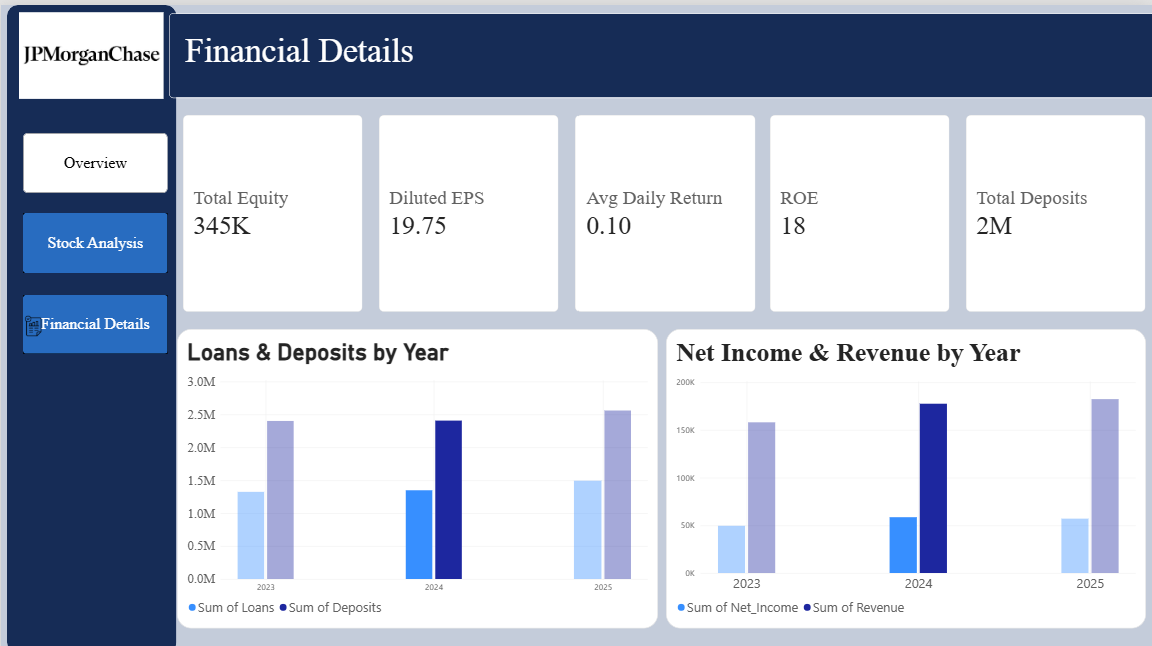

This screenshot's page, from the dashboard's own definition file:
{"tool":"powerbi","page":{"name":"Page 2","canvas":[1920,1080],"ordinal":1},"visuals":[{"type":"clusteredColumnChart","title":"Net Income & Revenue by Year","fields":{"Category":["jpm_financial_data.Year"],"Y":["Sum(jpm_financial_data.Net_Income)","Sum(jpm_financial_data.Revenue)"]},"box":[1106.7,540.3,800,499],"z":0,"group":"g3"},{"type":"shape","box":[10,0,282.5,1080],"z":1000},{"type":"actionButton","box":[37,213,241.1,100.1],"z":1000,"group":"g1"},{"type":"clusteredColumnChart","title":"Loans & Deposits by Year","fields":{"Category":["jpm_financial_data.Year"],"Y":["Sum(jpm_financial_data.Loans)","Sum(jpm_financial_data.Deposits)"]},"box":[293.4,540.3,800,499],"z":1000,"group":"g3"},{"type":"group","id":"g1","title":"Group 1","box":[37,213,240.8,368.6],"z":2000},{"type":"shape","box":[278.4,11.9,1642,141.9],"z":3000},{"type":"cardVisual","fields":{"Data":["Sum(jpm_financial_data.ROE)"]},"box":[1282.7,183,299.8,328.2],"z":3000,"group":"g2"},{"type":"actionButton","box":[37,347.2,241.1,100.1],"z":3000,"group":"g1"},{"type":"textbox","box":[306,42.6,1437.9,81.4],"z":4000},{"type":"cardVisual","fields":{"Data":["Sum(jpm_financial_data.Total_Equity)"]},"box":[305,183,299.8,328.2],"z":4000,"group":"g2"},{"type":"cardVisual","fields":{"Data":["Sum(jpm_financial_data.Deposits)"]},"box":[1608.5,183,299.8,328.2],"z":5000,"group":"g2"},{"type":"actionButton","box":[37,483.7,241.1,97.8],"z":5000,"group":"g1"},{"type":"cardVisual","fields":{"Data":["Sum(jpm_financial_data.Diluted_EPS)"]},"box":[630.9,183,299.8,328.2],"z":6000,"group":"g2"},{"type":"image","box":[29,0,241.1,168.3],"z":7000},{"type":"cardVisual","fields":{"Data":["jpm_stock_data.Average Daily Return"]},"box":[956.8,183,299.8,328.2],"z":7000,"group":"g2"},{"type":"group","id":"g2","title":"Group 2","box":[305,183,1603.4,328.2],"z":8000},{"type":"group","id":"g3","title":"Group 3","box":[293.4,540.3,1612.1,499.6],"z":9000},{"type":"image","box":[37,508.7,34.1,50],"z":13002,"group":"g1"}]}

Visuals, with their boxes in screenshot pixels (x1, y1, x2, y2), scaled from the page's 1920x1080 canvas onto the 1152x646 screenshot:
"Net Income & Revenue by Year" clusteredColumnChart: 664/323/1144/622
shape: 6/0/176/645
actionButton: 22/127/167/187
"Loans & Deposits by Year" clusteredColumnChart: 176/323/656/622
"Group 1" group: 22/127/167/348
shape: 167/7/1151/92
cardVisual - Sum(jpm_financial_data.ROE): 770/109/950/306
actionButton: 22/208/167/268
textbox: 184/25/1046/74
cardVisual - Sum(jpm_financial_data.Total_Equity): 183/109/363/306
cardVisual - Sum(jpm_financial_data.Deposits): 965/109/1145/306
actionButton: 22/289/167/348
cardVisual - Sum(jpm_financial_data.Diluted_EPS): 379/109/558/306
image: 17/0/162/101
cardVisual - jpm_stock_data.Average Daily Return: 574/109/754/306
"Group 2" group: 183/109/1145/306
"Group 3" group: 176/323/1143/622
image: 22/304/43/334
